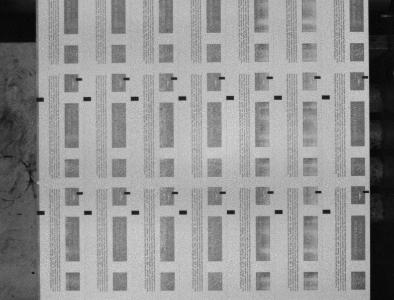backgroundclutter: (31, 271, 35, 274)
qblock: (131, 210, 140, 215), (37, 210, 45, 215), (274, 95, 282, 100), (131, 96, 139, 101), (84, 210, 92, 215), (323, 209, 331, 214), (36, 97, 44, 102), (179, 96, 187, 100), (322, 95, 330, 99), (83, 97, 91, 101), (275, 210, 283, 214), (179, 210, 187, 214), (227, 210, 235, 214), (227, 96, 234, 100)
smallqblock: (219, 76, 226, 80), (124, 191, 131, 195), (77, 191, 83, 195), (363, 75, 369, 79), (267, 191, 274, 194), (171, 77, 178, 80), (363, 190, 370, 193), (315, 190, 322, 193), (124, 77, 130, 80), (220, 191, 226, 194), (267, 76, 273, 79), (76, 78, 82, 81), (172, 191, 178, 194), (315, 76, 321, 79)
